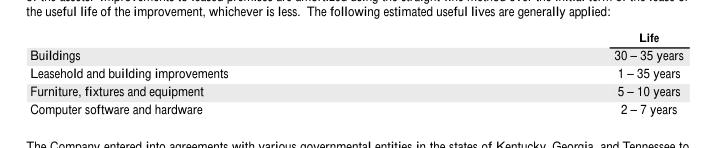table: (29, 28, 682, 117)
table column: (29, 28, 420, 117), (420, 28, 682, 117)
table column header: (29, 28, 682, 44)
table row: (29, 44, 682, 63), (29, 63, 682, 81), (29, 81, 682, 99), (29, 99, 682, 117), (29, 28, 682, 44)
